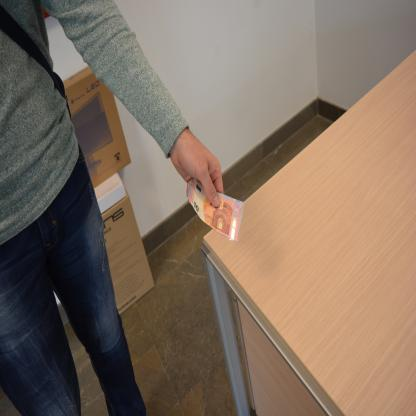billete: (186, 177, 245, 242)
